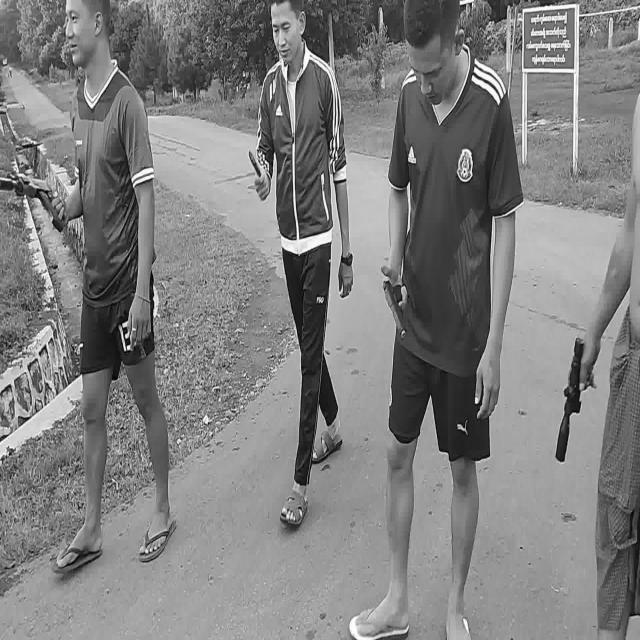gun: (1, 170, 64, 232), (383, 278, 406, 336)
